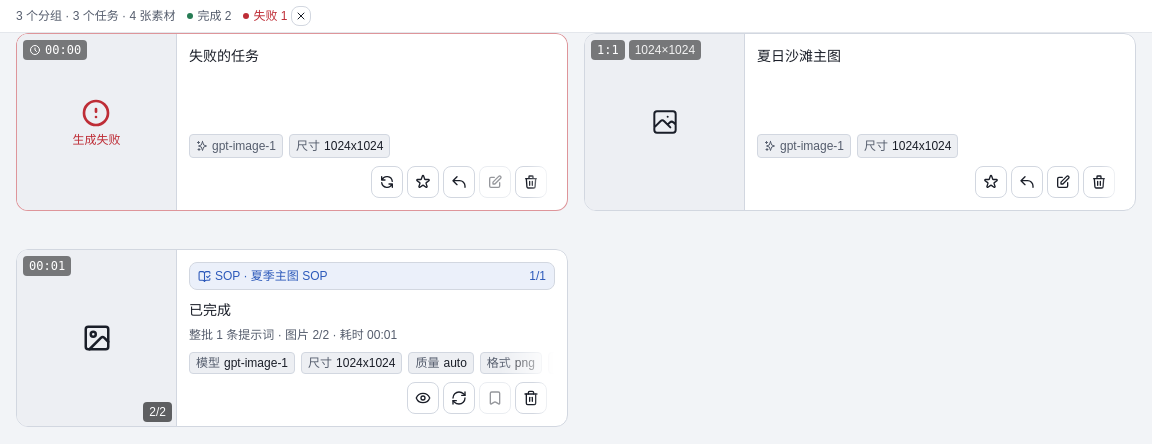
Scenario: AssetGroupedView（分组视图 · 任务卡片形式） › 速览的「失败 N」可以关掉，且只有失败数继续上涨才重新出现
Click the button named "关闭失败提示".
click(302, 16)  # box [292, 6, 312, 26]
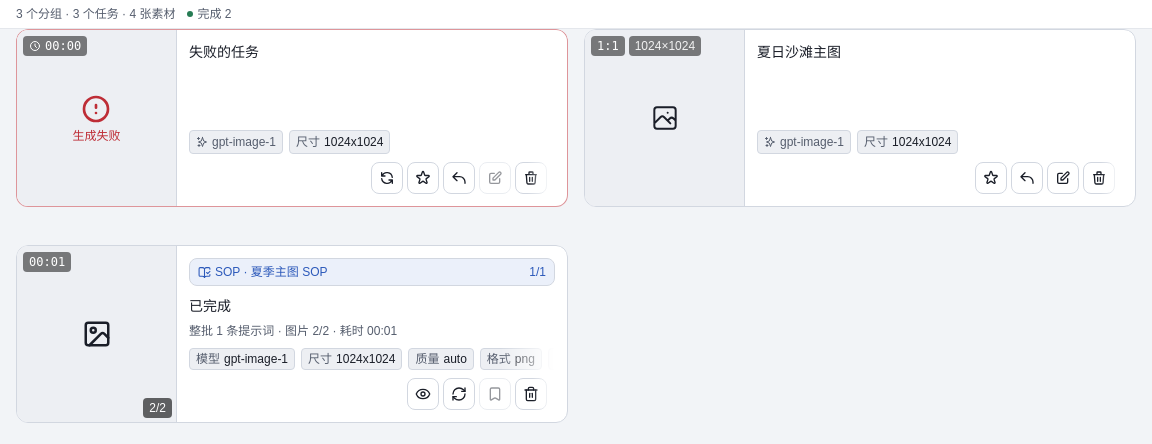
Now the element with test id "asset-batch-overview" no longer shows "失败"
